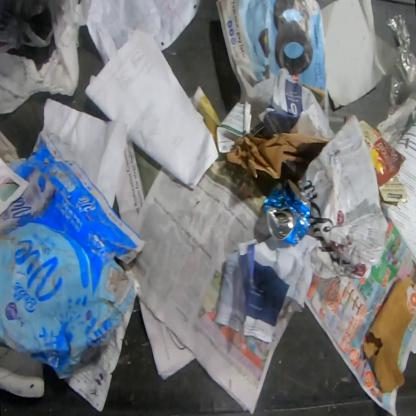cardboard: (0, 130, 148, 381), (358, 117, 410, 204)
metal: (264, 183, 312, 246)
soft_plastic: (0, 0, 91, 116), (386, 13, 415, 118)
